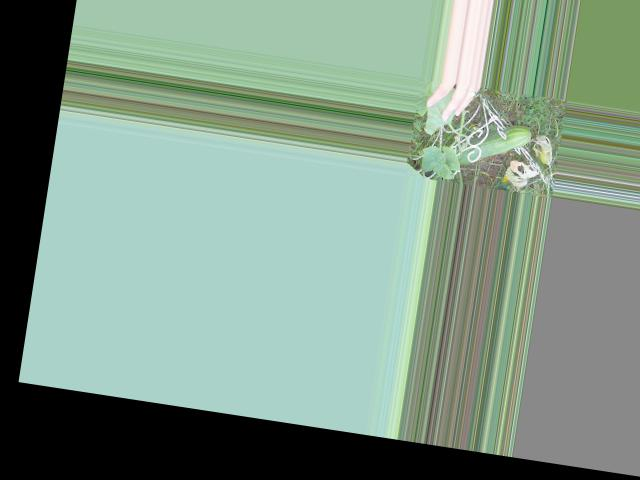cucumber: (456, 116, 532, 173)
